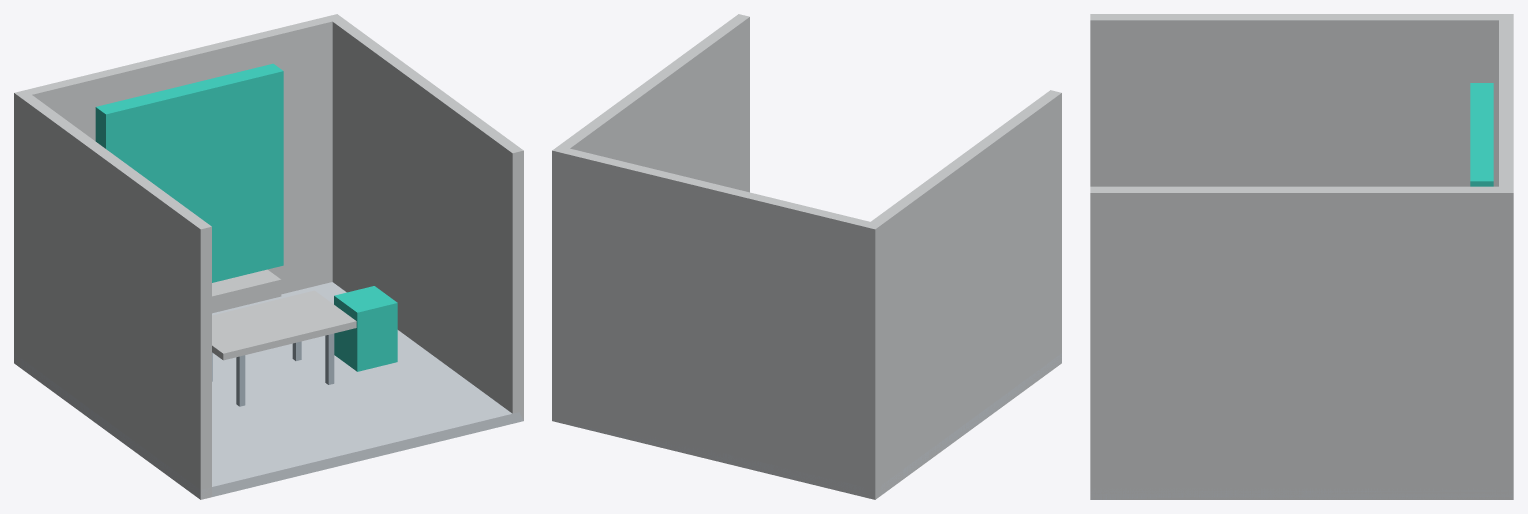
3 views of the same model, side by side, from view 1: azimuth 30°, elevation 25°; view 2: azimuth 150°, elevation 25°; view 3: azimuth 270°, elevation 25° (orthographic). The views are drawn at different scales.
Visible parts, largest first — view 1: Exhibition Booth Concept; view 2: Exhibition Booth Concept; view 3: Exhibition Booth Concept.
Boxes of the visible parts, bbox=[...] form: Exhibition Booth Concept: bbox=[14, 14, 523, 499]; Exhibition Booth Concept: bbox=[552, 14, 1061, 499]; Exhibition Booth Concept: bbox=[1090, 14, 1513, 499].
Size of the model in its own units: 4 by 3.2 by 4.
